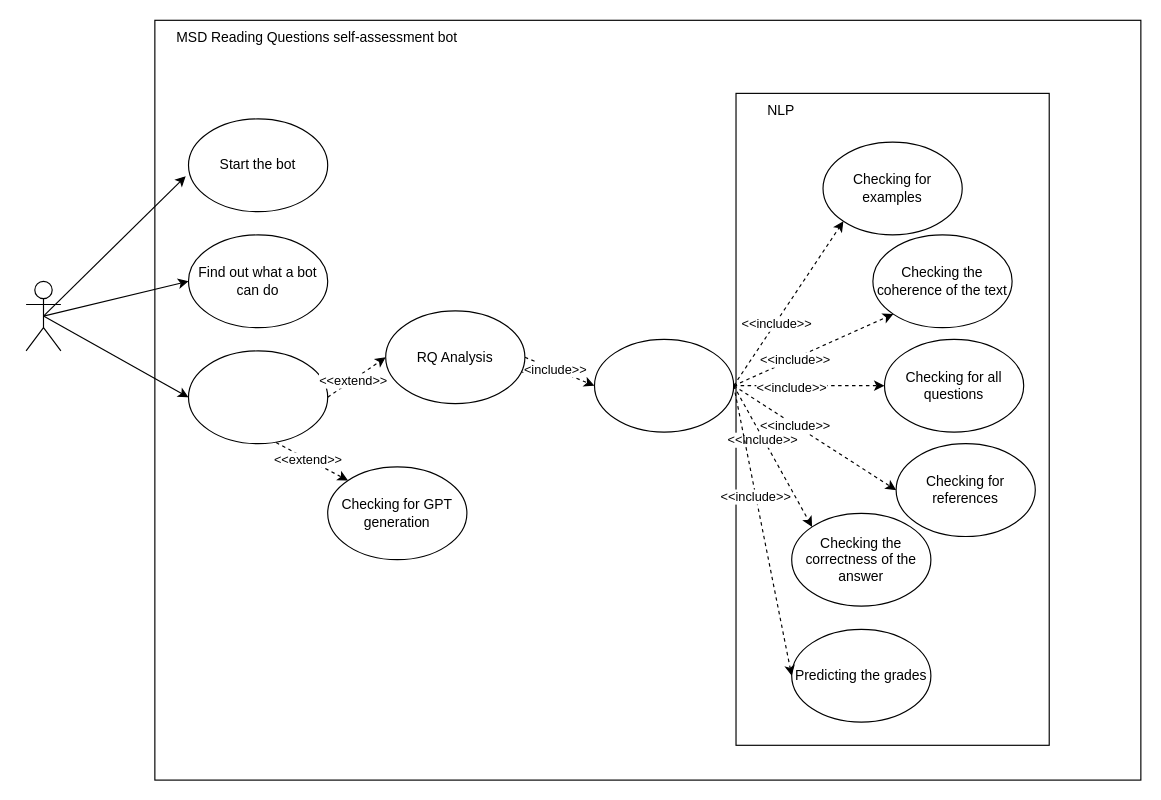
Image size: 1161x800. Some labels were removed from this diagram. Each missing label, with the centre of its shape:
Download a pdf with the completed RQ: point 257,397
Select the number of the sent RQ: point 663,385
Student: point 43,315
